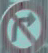Don't turn right: (2, 4, 46, 51)
